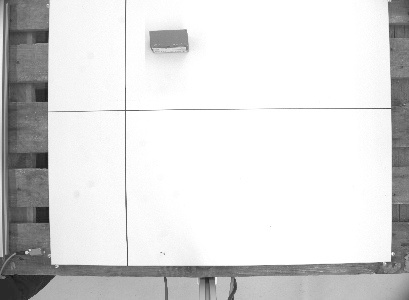b3: (147, 27, 191, 55)
